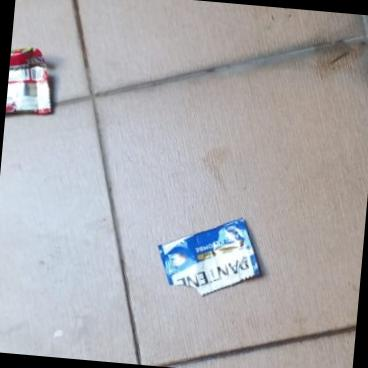Plastik: (154, 210, 264, 300), (6, 46, 58, 121)
